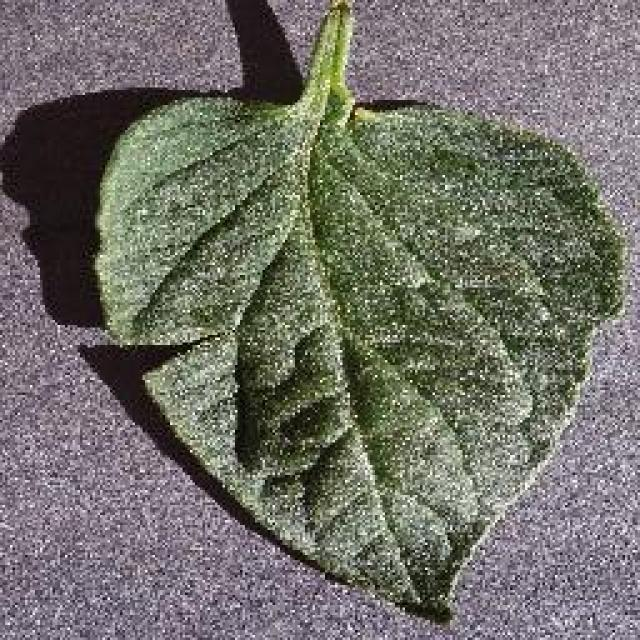healthy: (91, 2, 628, 622)
